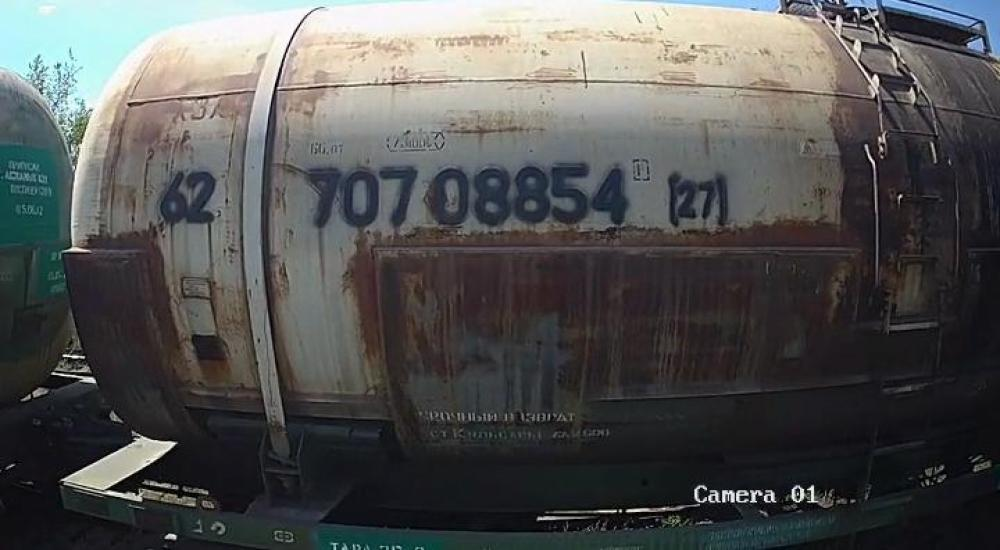Wagon-number: (302, 163, 635, 229)
